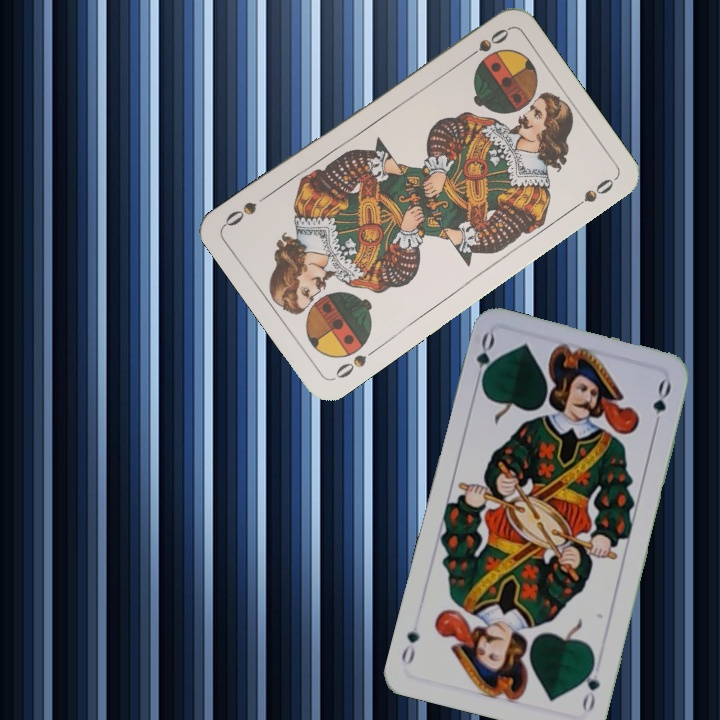GO: (471, 329, 498, 390), (578, 656, 603, 716)
SO: (459, 24, 512, 64), (329, 343, 381, 383)
